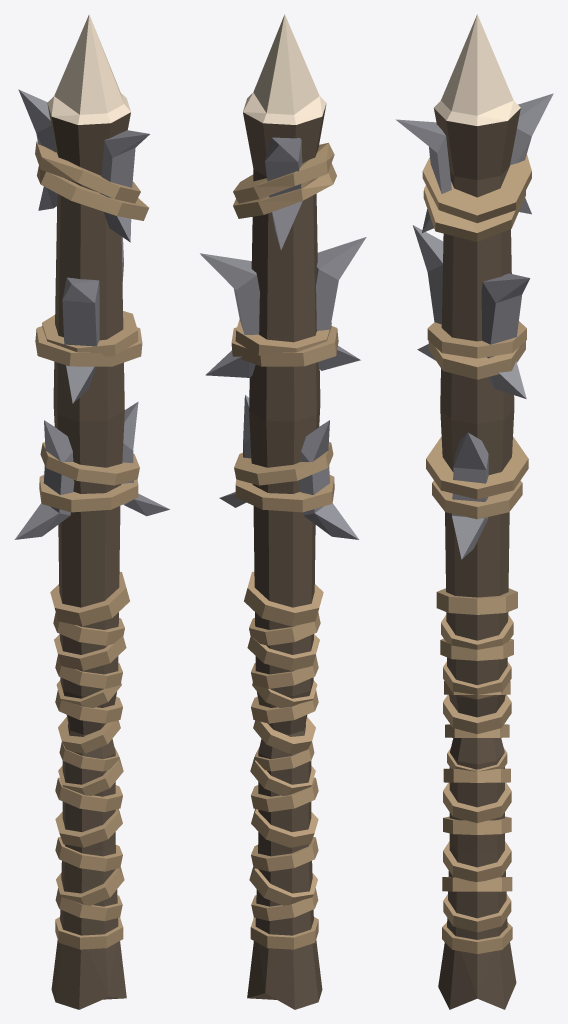
File: _hammer_15.fbx
3 views of the same model, side by side, from view 1: azimuth 30°, elevation 25°; view 2: azimuth 150°, elevation 25°; view 3: azimuth 270°, elevation 25° (orthographic).
Parts seen in each view (by area): view 1: hammer_15; view 2: hammer_15; view 3: hammer_15.
Part boxes in pixels (x1,y1,x2,y2): hammer_15: (14,14,169,1009); hammer_15: (200,14,366,1009); hammer_15: (395,14,553,1009).
Bounding box in the file's own units: 13.31 × 84.05 × 12.27.
